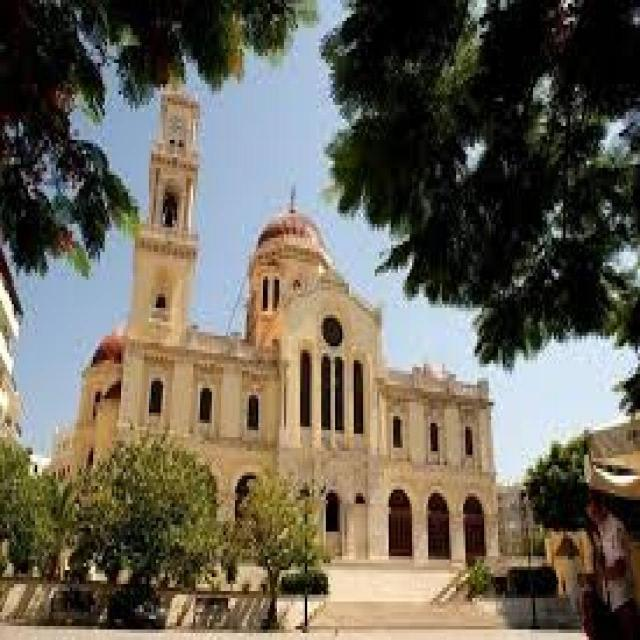Agios Minas: (75, 14, 499, 577)
